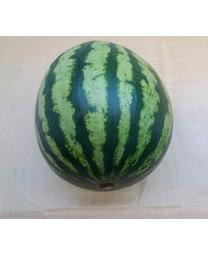watermelon: (34, 40, 175, 191)
